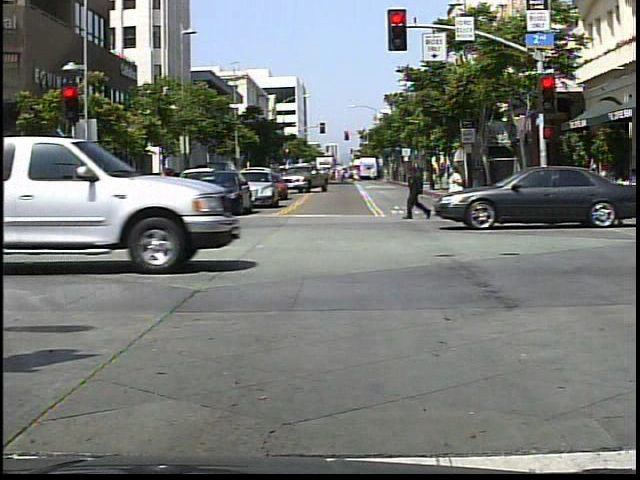person: (403, 160, 437, 224), (443, 160, 473, 197), (159, 166, 181, 167)
